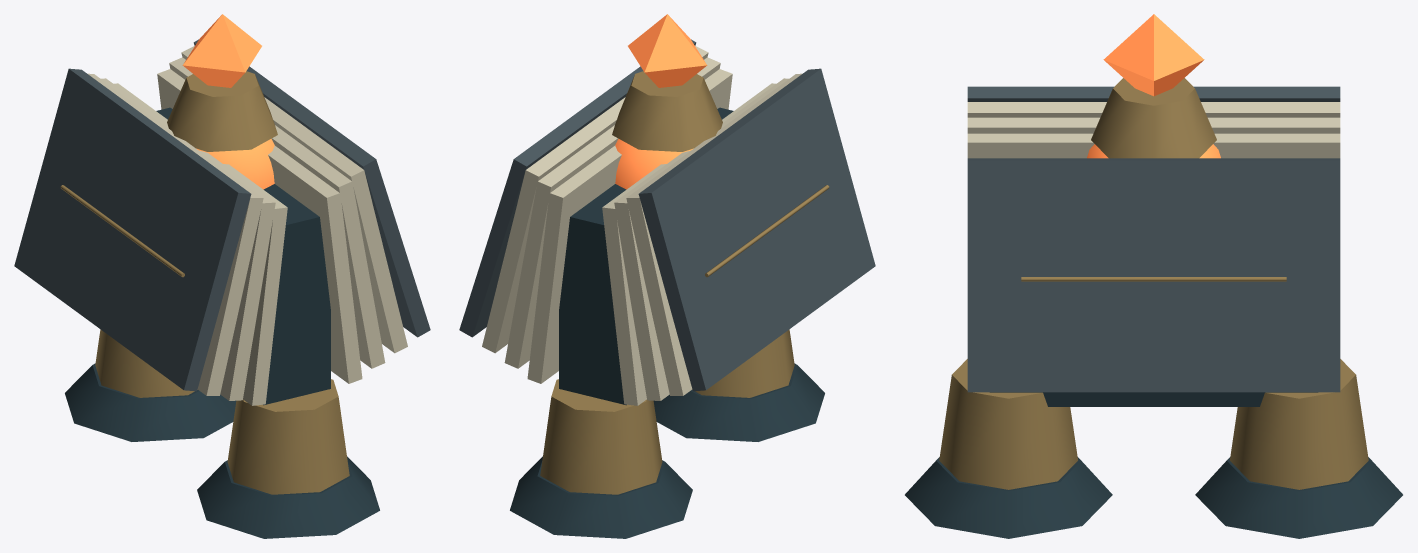
The model's file is archivist.glb.
The picture shows the model from 3 angles, left to right: view 1: azimuth 30°, elevation 25°; view 2: azimuth 150°, elevation 25°; view 3: azimuth 270°, elevation 25°; orthographic projection. The views are drawn at different scales.
Visible parts, largest first — view 1: armour_cover (×2), page (×6), foot (×2), support (×2), spine, stone, flame, heart, script; view 2: armour_cover (×2), page (×6), foot (×2), support (×2), spine, stone, flame, heart, script; view 3: armour_cover (×2), support (×2), foot (×2), page (×3), stone, flame, spine, script.
Part boxes in pixels (x1,y1,x2,y2): armour_cover (×2): (14, 39, 430, 391); page (×6): (87, 46, 407, 405); foot (×2): (65, 363, 379, 538); support (×2): (95, 329, 349, 494); spine: (156, 107, 330, 405); stone: (167, 71, 277, 151); flame: (182, 14, 261, 87); heart: (196, 138, 274, 189); script: (60, 185, 184, 277); armour_cover (×2): (459, 39, 875, 391); page (×6): (482, 46, 802, 405); foot (×2): (510, 363, 824, 538); support (×2): (540, 329, 794, 494); spine: (559, 107, 733, 405); stone: (612, 71, 722, 151); flame: (628, 14, 707, 87); heart: (615, 138, 693, 189); script: (705, 185, 829, 277); armour_cover (×2): (967, 86, 1340, 392); support (×2): (939, 359, 1368, 489); foot (×2): (905, 457, 1402, 538); page (×3): (967, 102, 1340, 158); stone: (1091, 78, 1216, 158); flame: (1103, 14, 1204, 96); spine: (990, 392, 1317, 406); script: (1021, 277, 1286, 281).
Bounding box in the file's own units: 0.9912 × 1.68 × 1.58.
